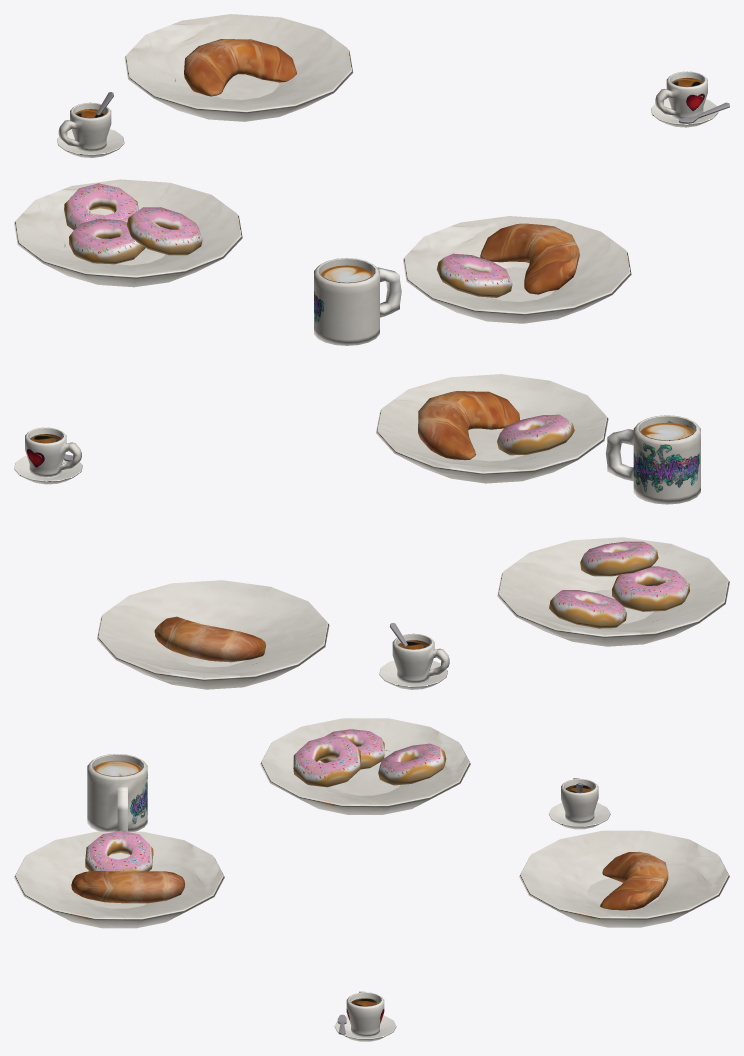
The model's file is Prop_Table.fbx.
3 views of the same model, one above another, from view 1: azimuth 30°, elevation 25°; view 2: azimuth 150°, elevation 25°; view 3: azimuth 270°, elevation 25° (orthographic). The views are drawn at different scales.
Parts seen in each view (by area): view 1: Dish2, Dish, Dish1, Mug, Croissant, Croissant1, Mug_Small, Mug_Small_love, Donut4, Donut1, Donut, Donut2; view 2: Dish2, Dish, Dish1, Mug, Croissant, Croissant1, Mug_Small_love, Mug_Small, Donut1, Donut, Donut2, Donut4; view 3: Dish2, Dish, Dish1, Mug, Croissant, Croissant1, Donut4, Donut, Mug_Small, Mug_Small_love, Donut2, Donut1.
Boxes of the visible parts, x1,y1,x2,y2 form: Dish2: (124,14,353,121); Dish: (403,216,631,323); Dish1: (14,179,242,287); Mug: (314,258,401,345); Croissant: (480,223,579,294); Croissant1: (184,39,296,96); Mug_Small: (651,71,729,127); Mug_Small_love: (57,92,124,157); Donut4: (126,207,202,255); Donut1: (69,218,145,264); Donut: (436,253,512,297); Donut2: (64,183,138,230); Dish2: (97,580,329,689); Dish: (376,374,608,483); Dish1: (497,537,729,646); Mug: (605,415,700,504); Croissant: (418,391,520,460); Croissant1: (154,616,265,662); Mug_Small_love: (379,623,449,689); Mug_Small: (14,427,82,484); Donut1: (612,566,689,611); Donut: (497,414,574,455); Donut2: (549,590,626,628); Donut4: (580,541,658,576); Dish2: (519,830,729,927); Dish: (14,831,224,928); Dish1: (260,718,470,814); Mug: (87,754,147,831); Croissant: (71,871,184,903); Croissant1: (600,851,668,910); Donut4: (293,736,360,787); Donut: (85,830,153,871); Mug_Small: (334,991,396,1041); Mug_Small_love: (548,778,610,829); Donut2: (378,743,446,785); Donut1: (320,729,384,769).
Size of the model in its own units: 1075 by 91.54 by 1063.
Materials: 1 (1 with a texture image).
